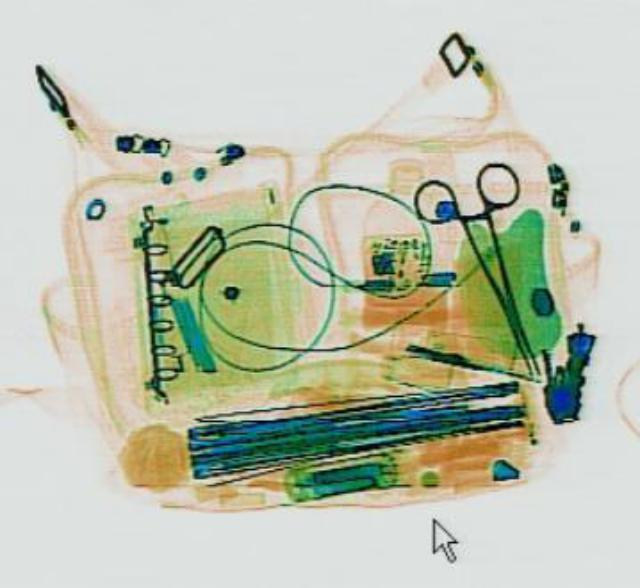Scissors: (401, 154, 591, 388)
